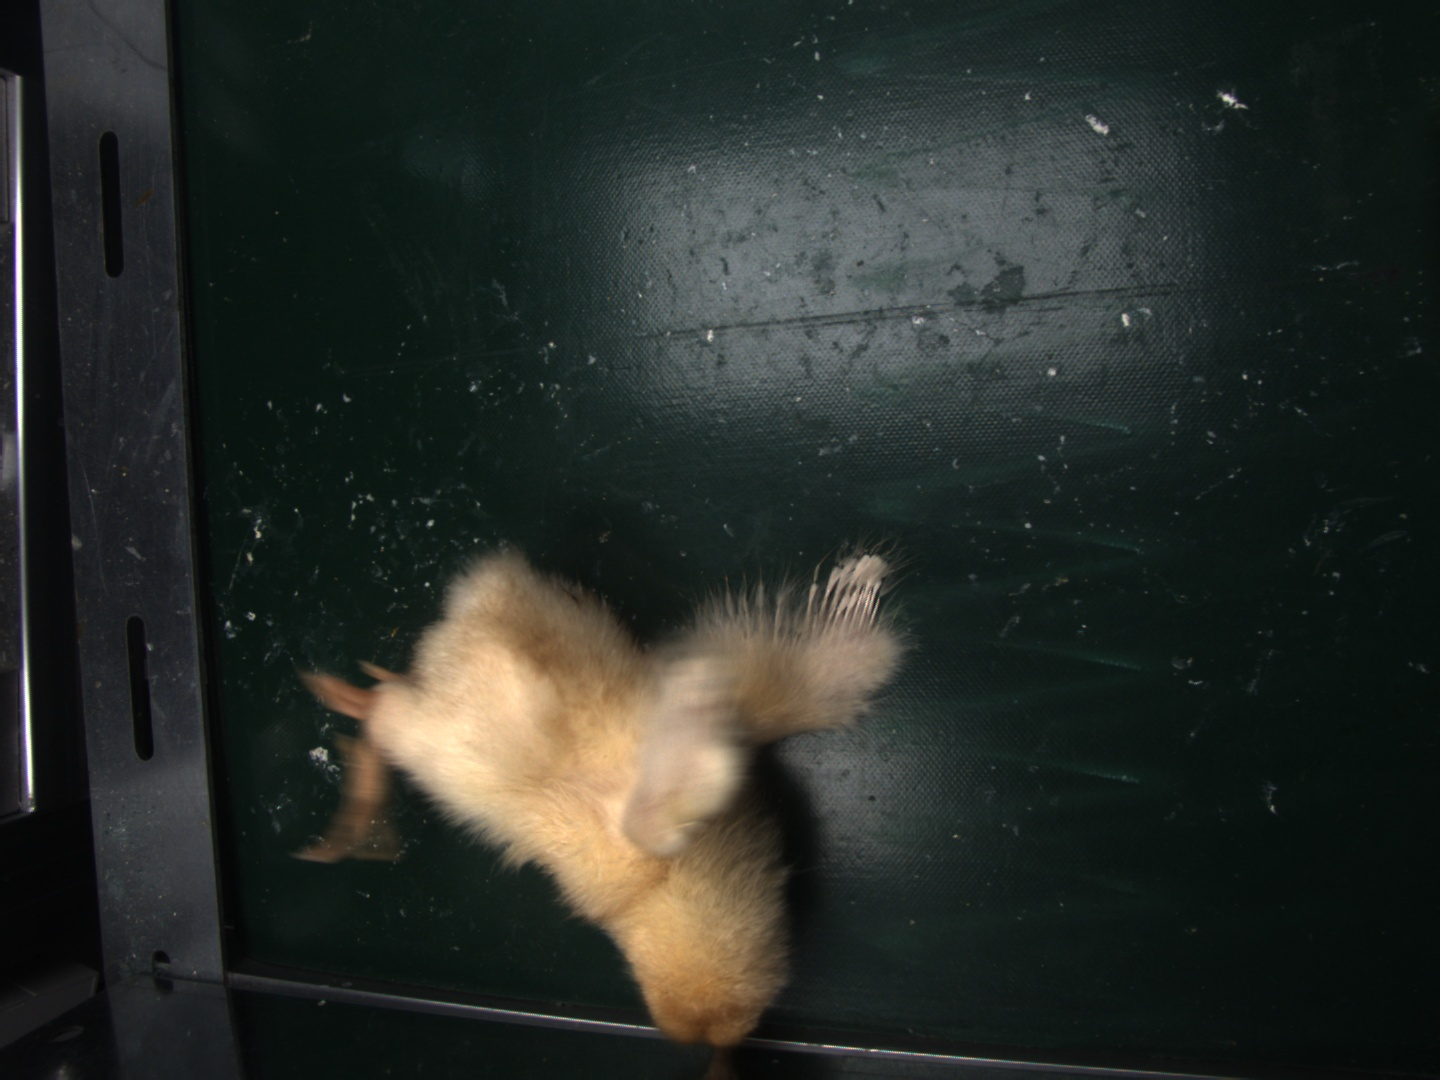female: (816, 554, 887, 633)
